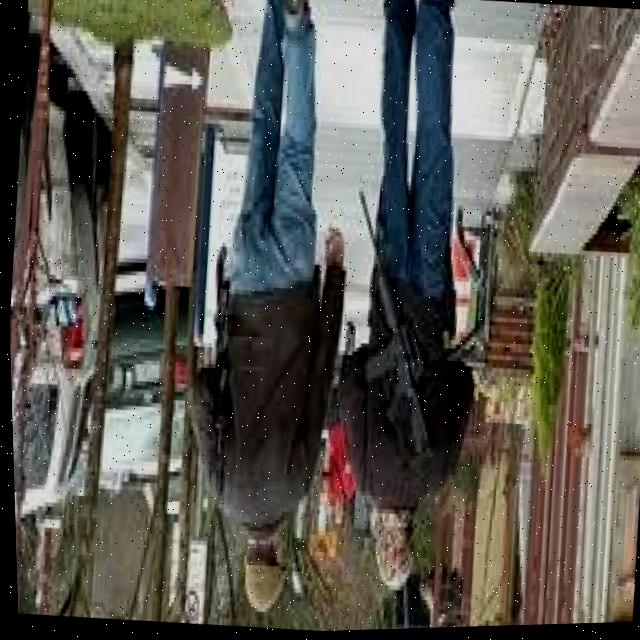firearm: (334, 190, 448, 464)
